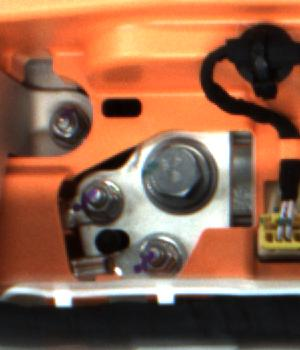nut_b: (136, 131, 218, 222)
